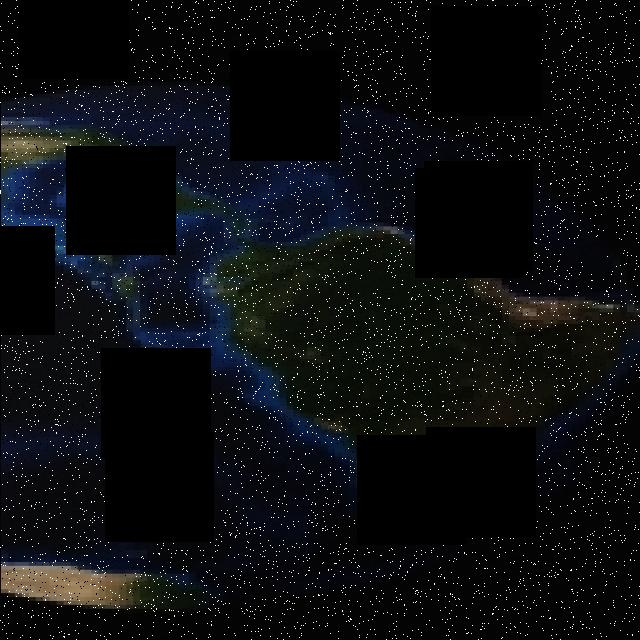Earth: (0, 74, 640, 620)
